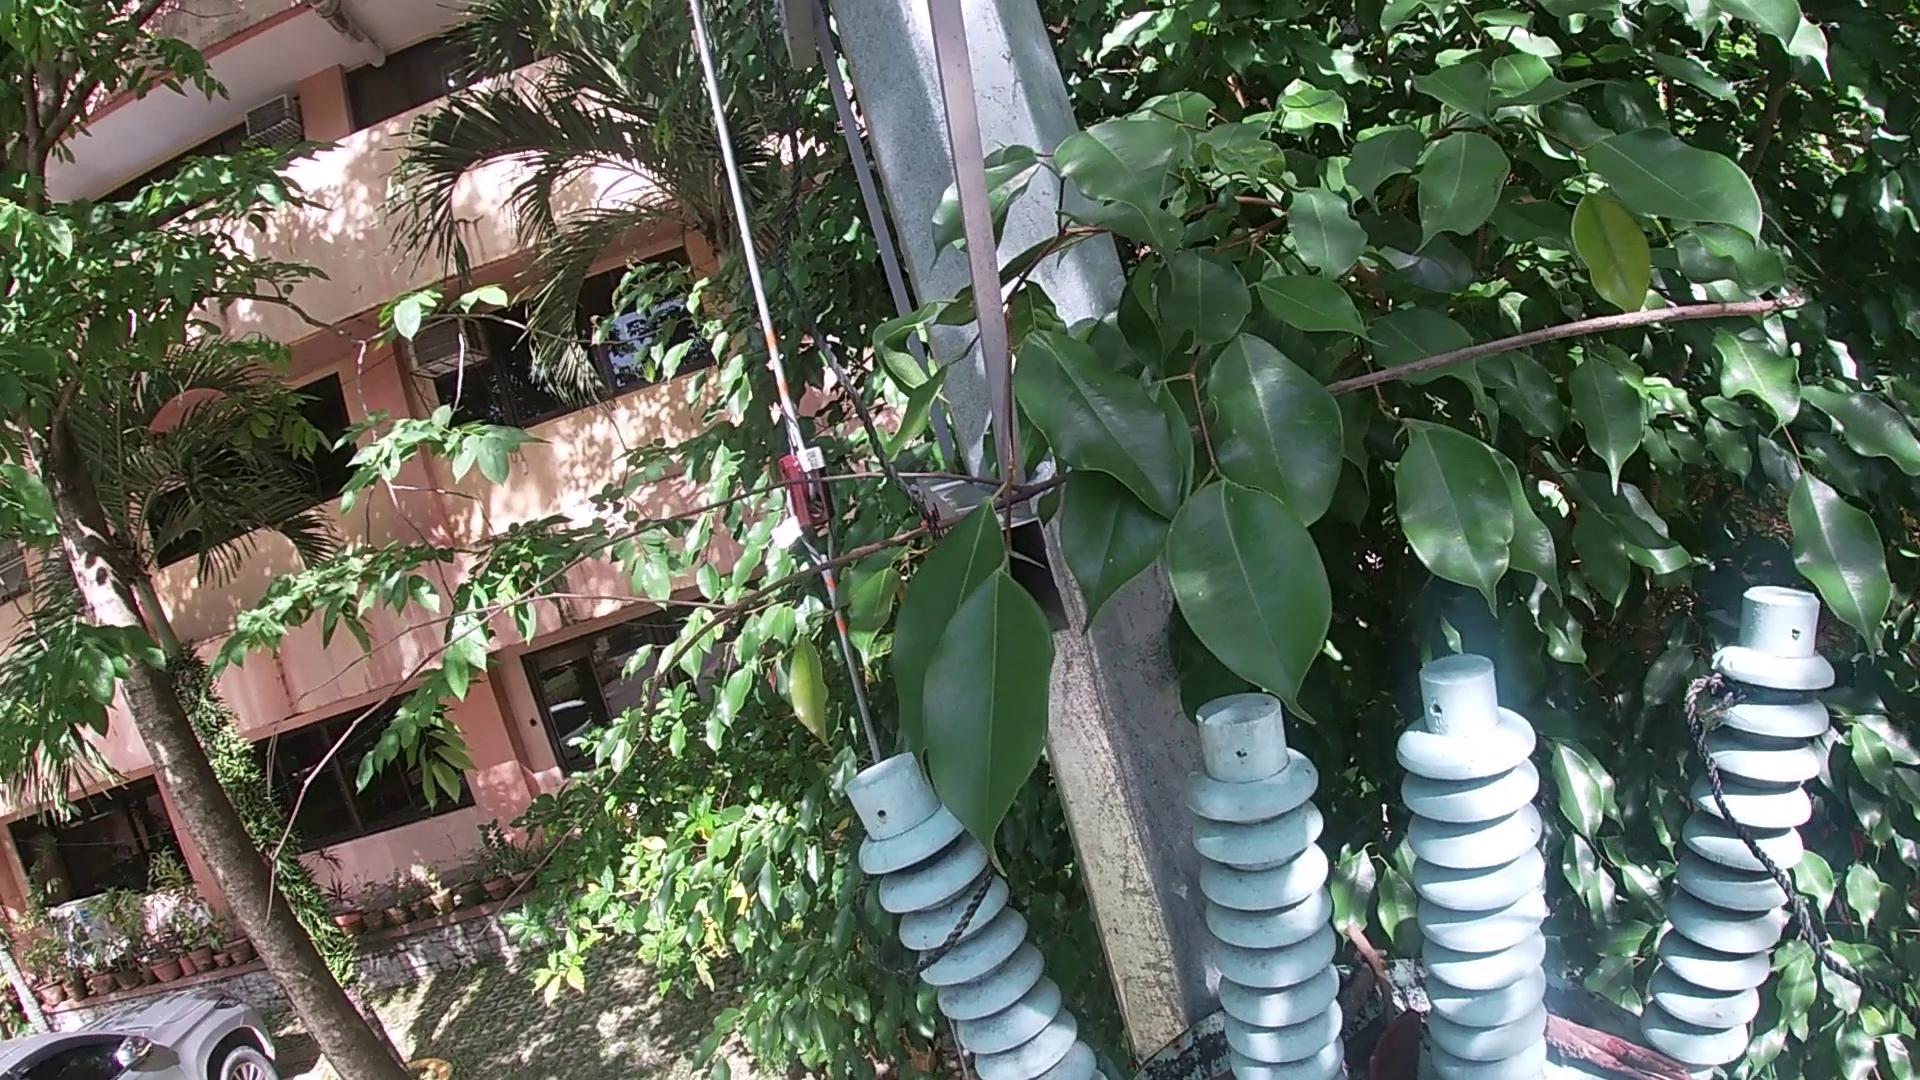mahogany fruit: (1354, 1001, 1427, 1080)
tree branch: (189, 270, 1851, 997), (1542, 1014, 1697, 1077), (1353, 926, 1404, 1004), (1331, 959, 1381, 1036)
